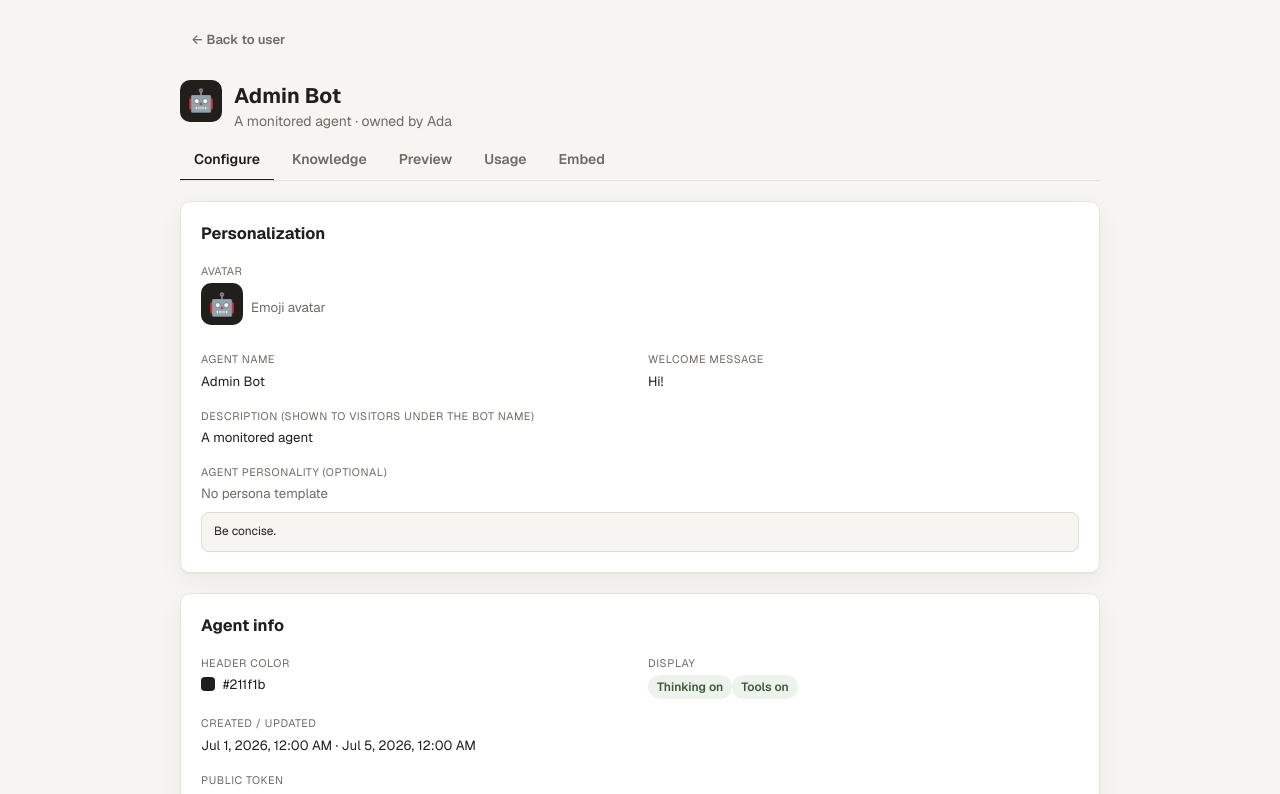
it: AdminAgentDetailView › embed tab shows the snippet and demo link
The image size is (1280, 794).
Click the button with class "tab" showing "Embed": [582, 160] box 544,140 -> 619,181
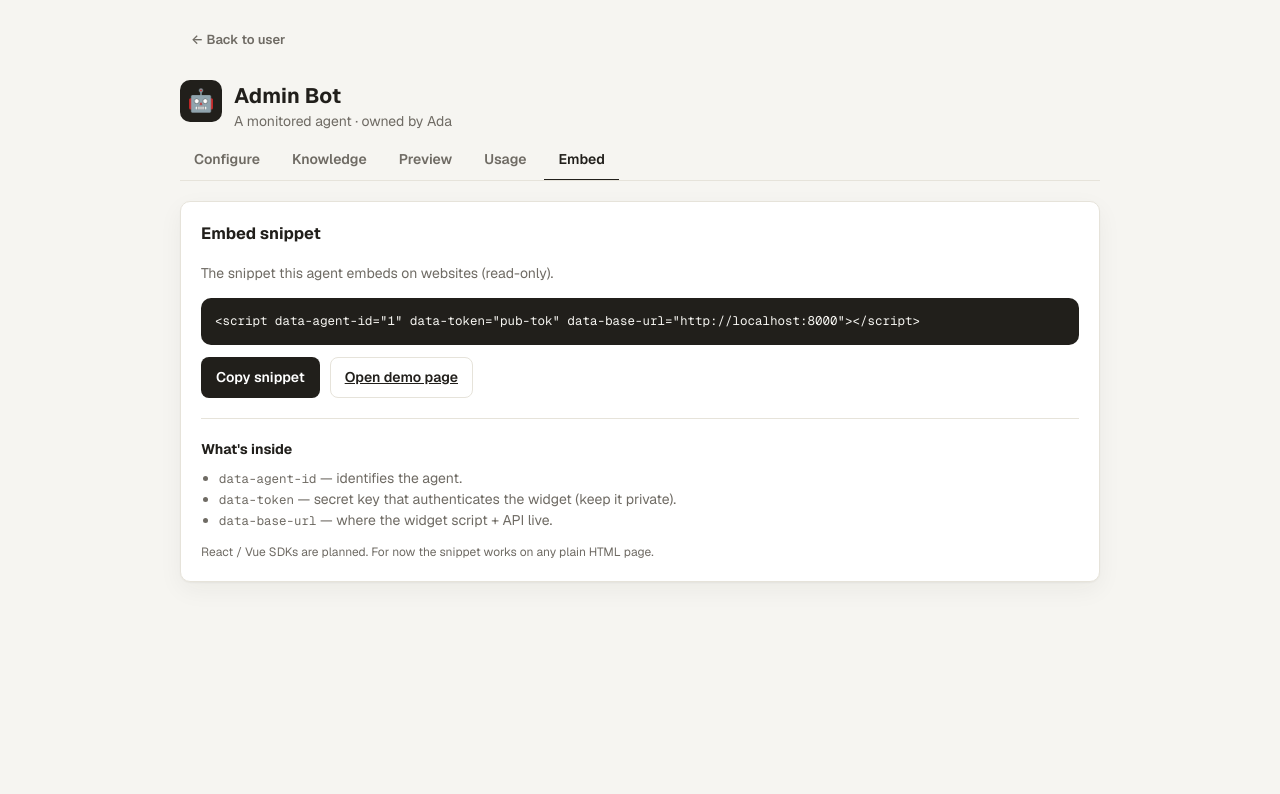
expect the text with test id "admin-embed-code" shows "data-token=\"pub-tok\"": met, box 215,312 -> 920,329
